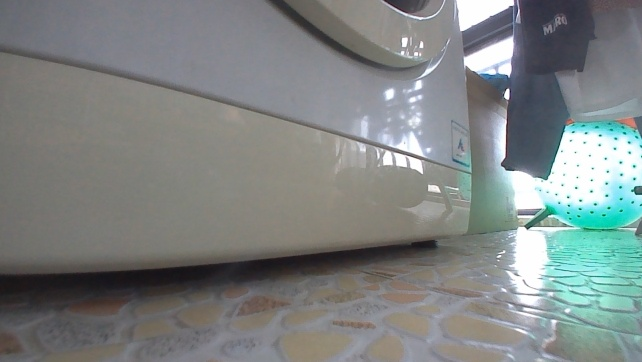washing_machine1: (0, 0, 474, 282)
